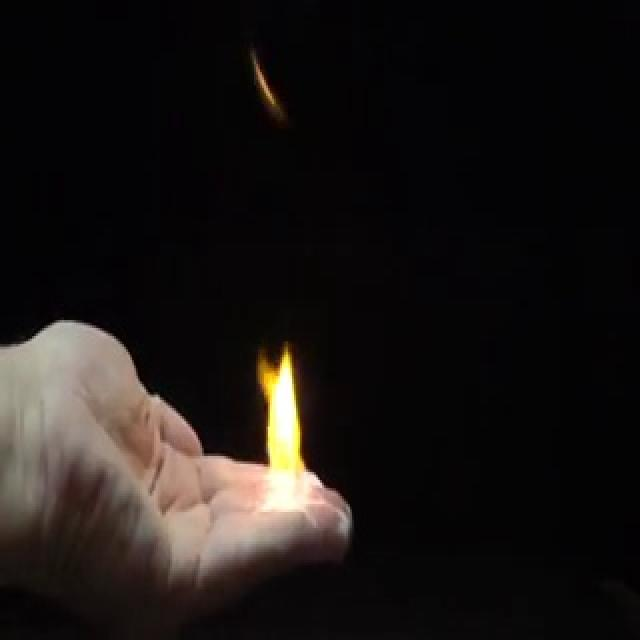fire: (252, 335, 312, 514)
